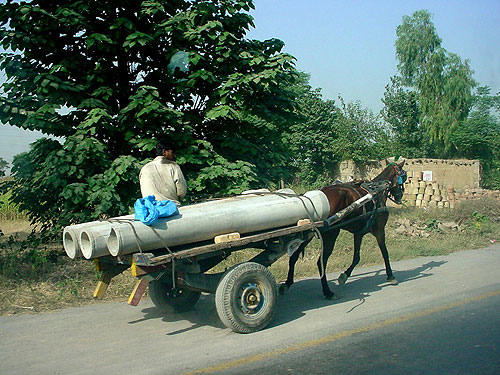horse: (277, 157, 409, 302)
